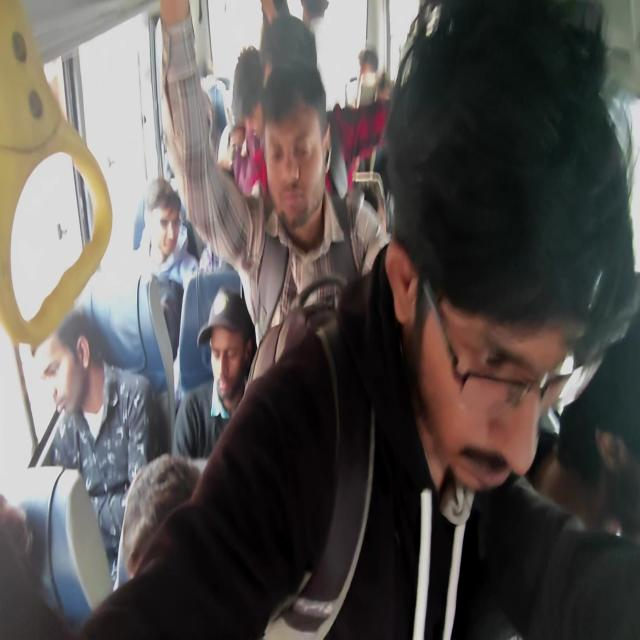person: (384, 17, 590, 481), (562, 310, 640, 599), (132, 478, 218, 634), (26, 314, 100, 454), (274, 75, 323, 217), (0, 494, 39, 640), (262, 20, 308, 140), (207, 316, 248, 416), (223, 52, 263, 140), (186, 86, 227, 170), (142, 186, 175, 267), (222, 124, 252, 196), (192, 46, 224, 82), (354, 44, 376, 90)
